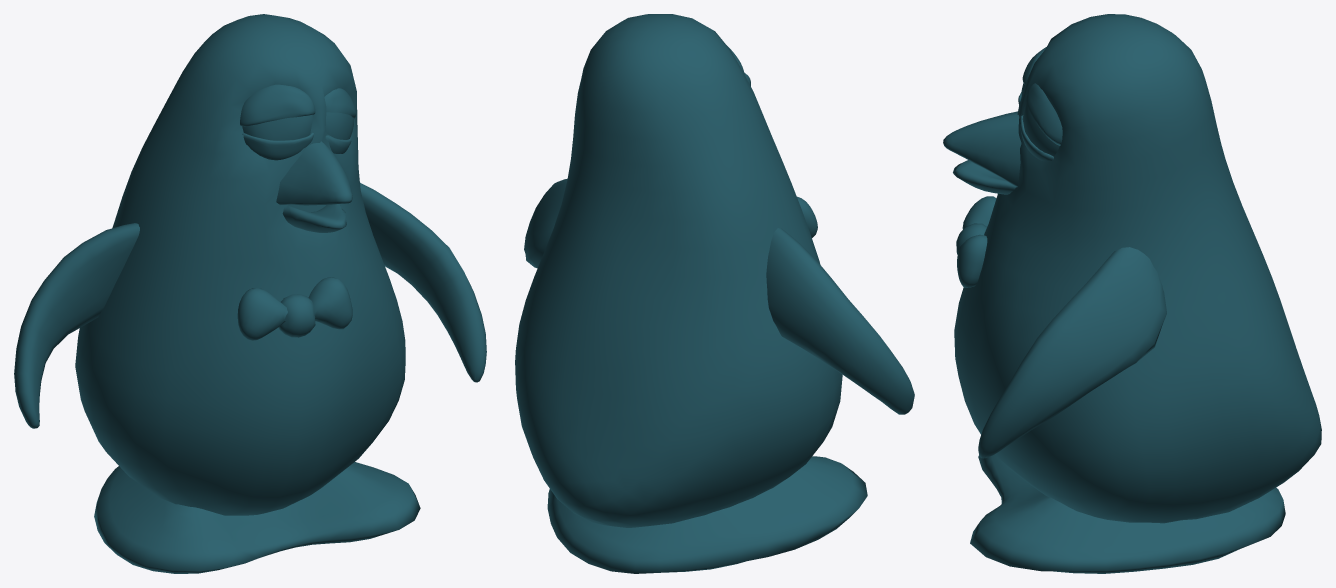
The model's file is Obstacle2.fbx.
3 renders of one model, left to right at view 1: azimuth 30°, elevation 25°; view 2: azimuth 150°, elevation 25°; view 3: azimuth 270°, elevation 25°, orthographic. The views are drawn at different scales.
Visible parts, largest first — view 1: body_low; view 2: body_low; view 3: body_low.
Boxes of the visible parts, box(x1,y1,x2,y2) form: body_low: box(14, 14, 486, 573); body_low: box(515, 14, 914, 573); body_low: box(943, 14, 1321, 573).
Bounding box in the file's own units: 22.71 × 25.92 × 17.3.
